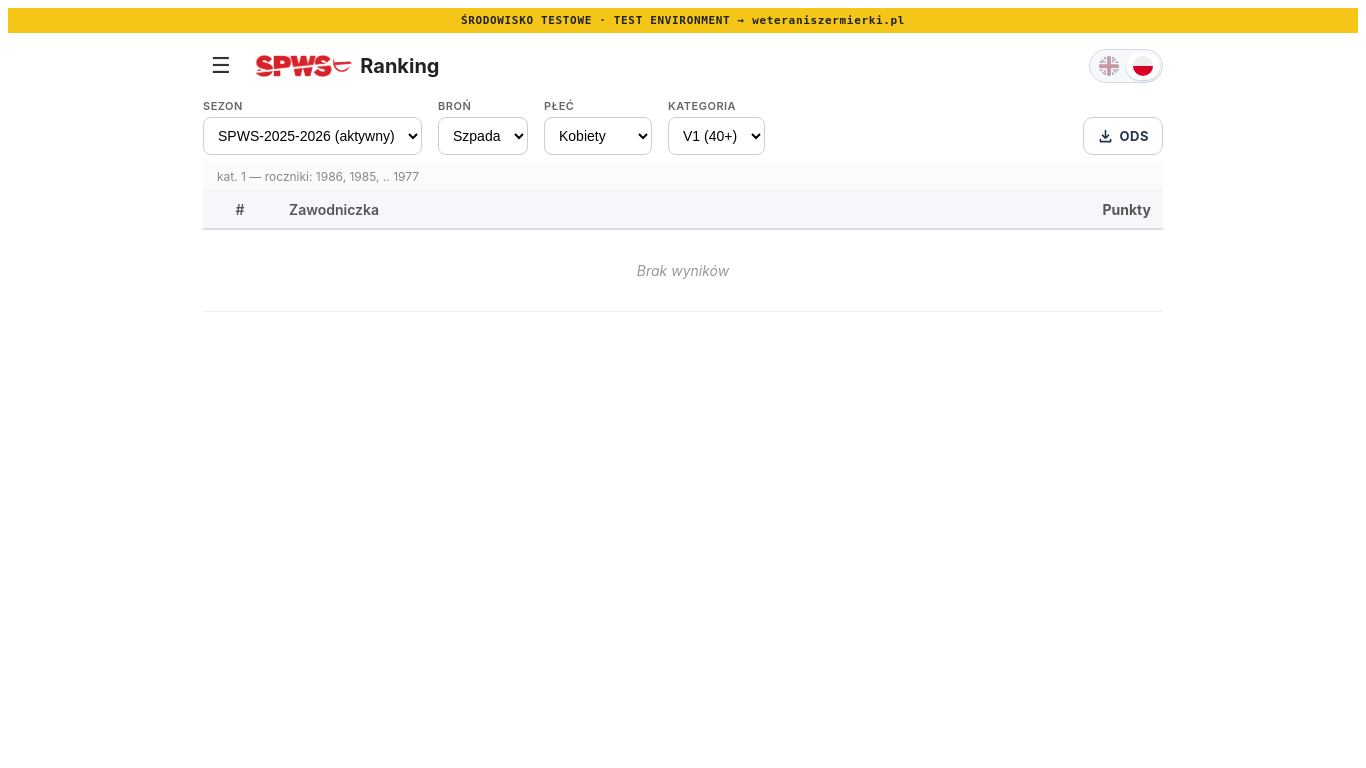
App Shell (T8.4) › keeps the season selector in the ranklist, and drops it in the calendar
Expected: the dropdown with class "season-select" is shown, [203, 117, 422, 155]
Note: Switch to calendar view
Click the button with class "hamburger-btn".
click(221, 66)  # box [203, 51, 239, 81]
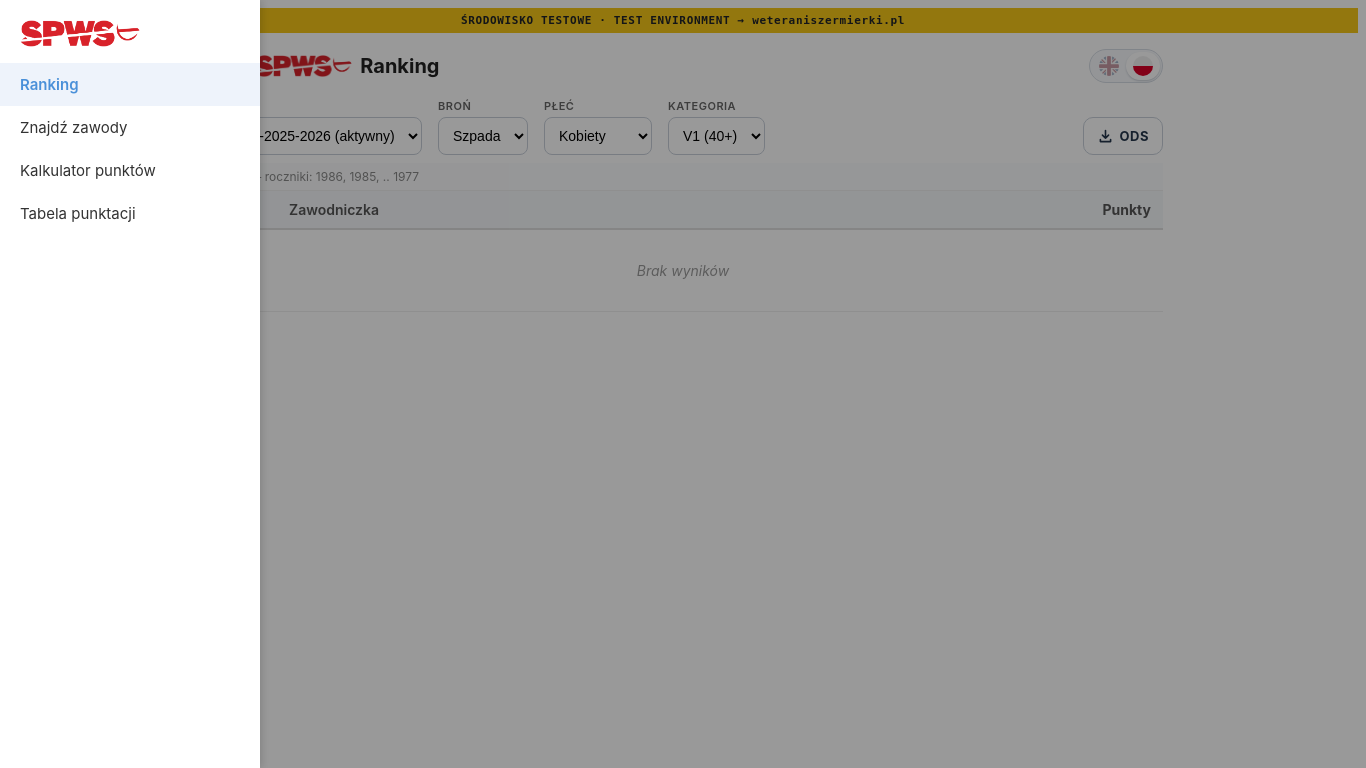
Click the button with class "nav-item" showing "Znajdź zawody".
click(130, 128)  # box [0, 106, 260, 149]
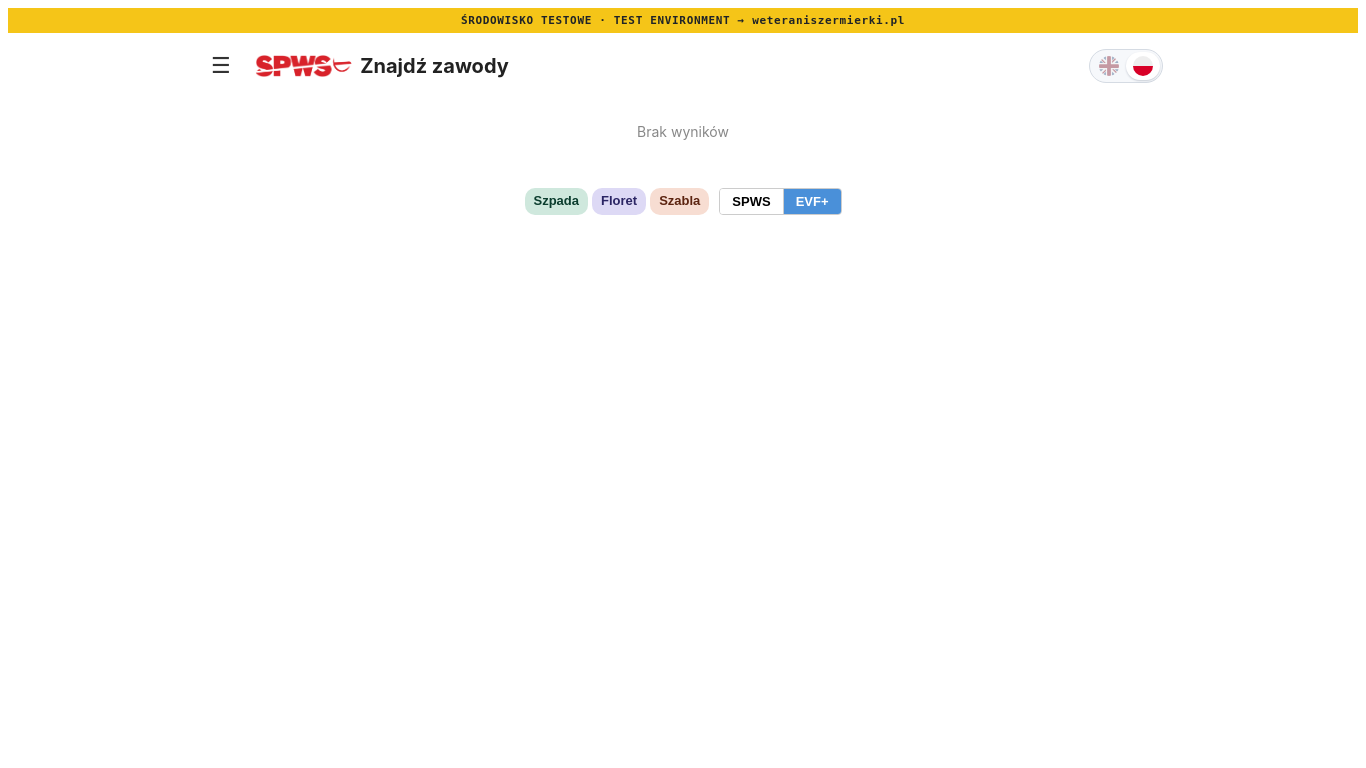
Expected: the dropdown with class "season-select" is gone
Expected: the element with class "calendar-view" is shown, [524, 123, 842, 215]
